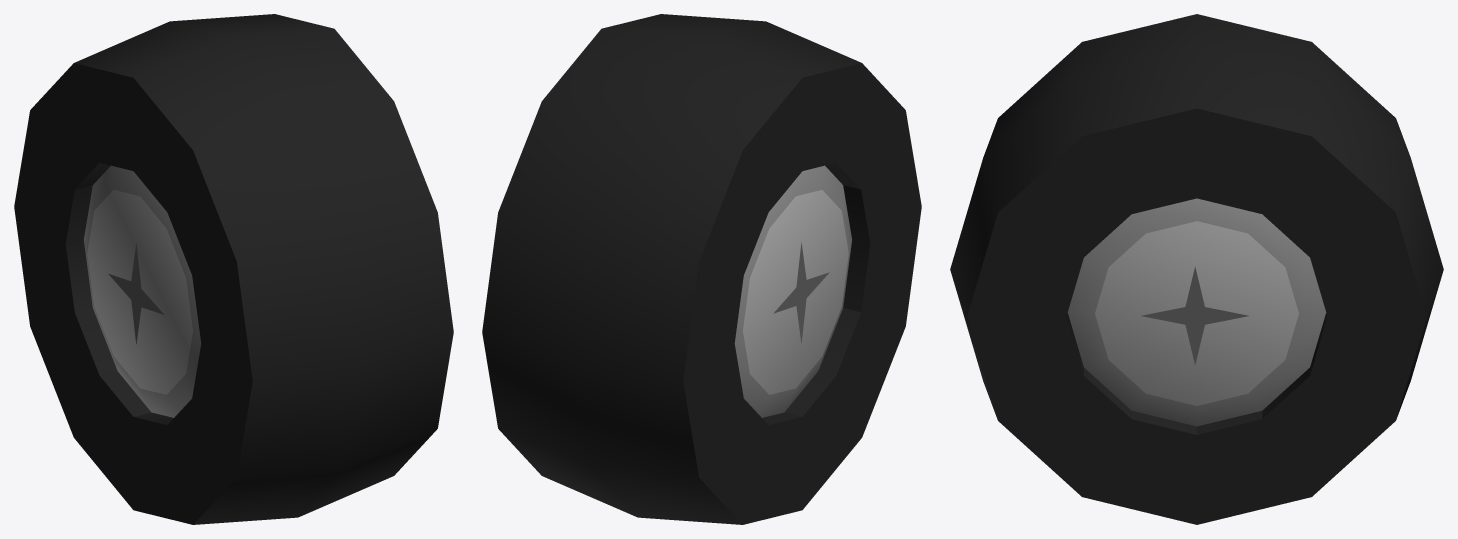
File: wheel3.glb
The picture shows the model from 3 angles, left to right: view 1: azimuth 30°, elevation 25°; view 2: azimuth 150°, elevation 25°; view 3: azimuth 270°, elevation 25°; orthographic projection. The views are drawn at different scales.
Visible parts, largest first — view 1: wheel_american; view 2: wheel_american; view 3: wheel_american.
Part boxes in pixels (<box>): wheel_american: <box>14,14,453,524</box>; wheel_american: <box>482,14,921,524</box>; wheel_american: <box>950,14,1443,524</box>.
Bounding box in the file's own units: 0.2284 × 0.5045 × 0.5045.
Materials: 1 (1 with a texture image).
